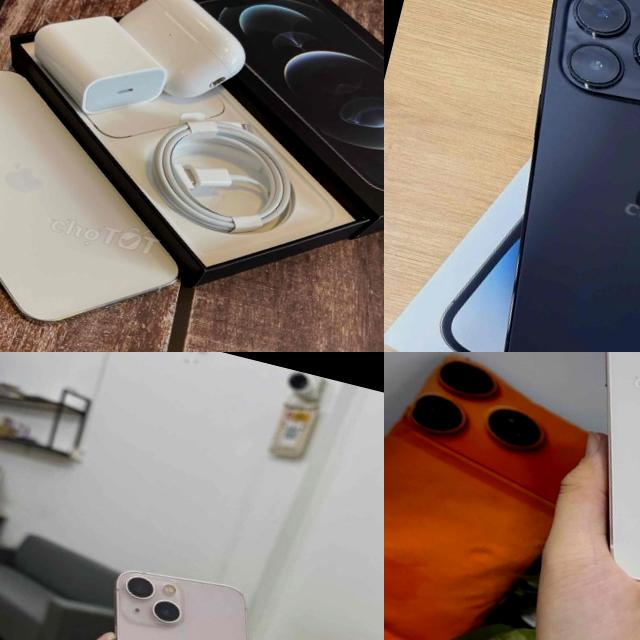gen_12_13: (0, 38, 220, 352), (532, 352, 640, 621), (60, 559, 303, 640)
gen_14: (453, 0, 640, 352)
